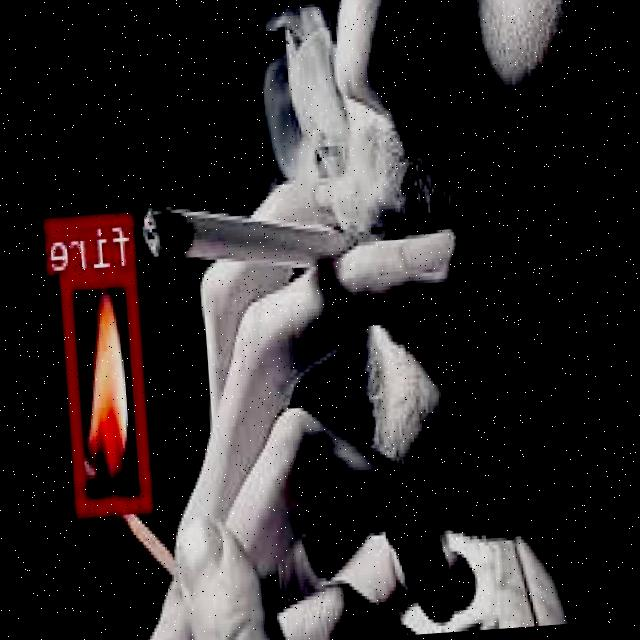fire: (64, 266, 154, 511)
